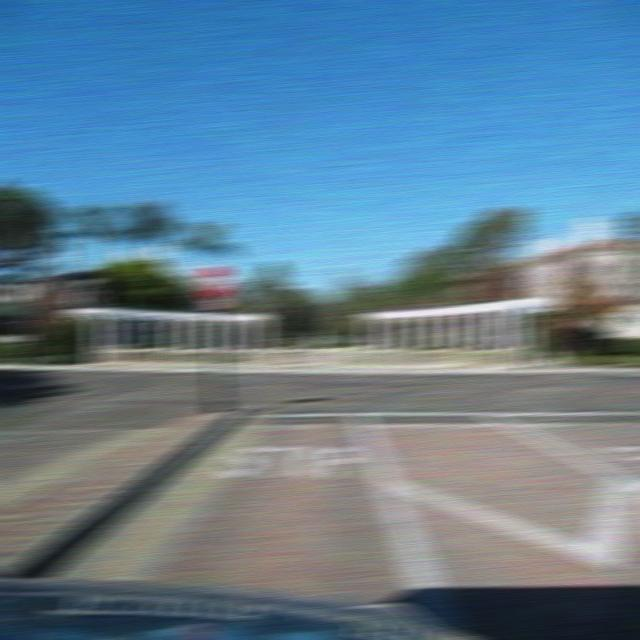stop: (195, 263, 233, 300)
